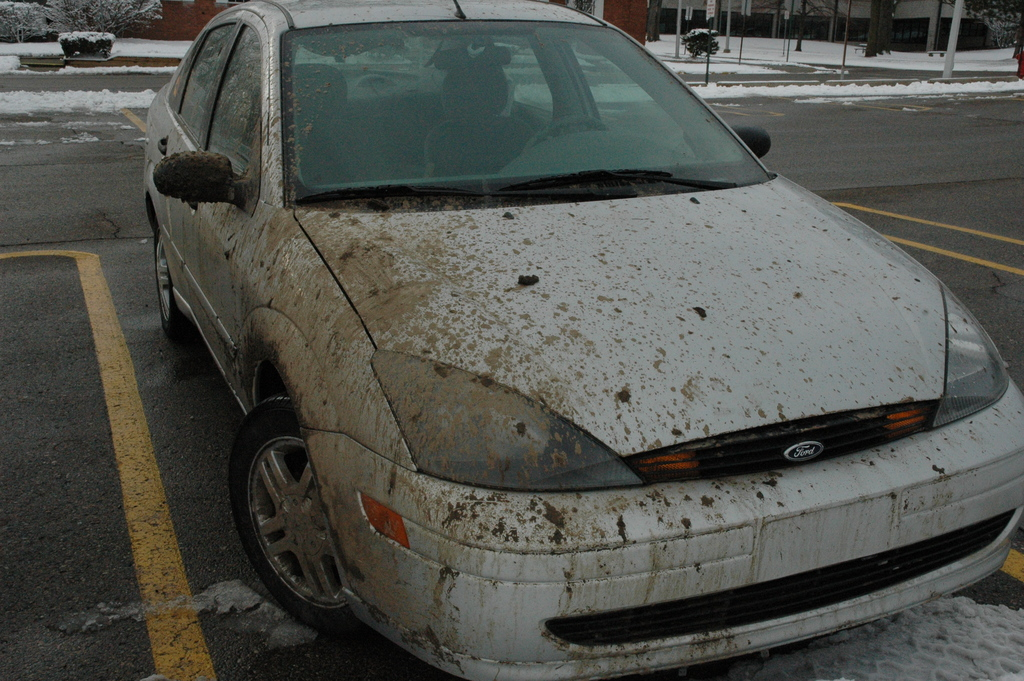Tree: (0, 0, 162, 43), (729, 0, 851, 51), (944, 0, 1024, 57), (867, 0, 894, 54), (648, 0, 662, 41)
